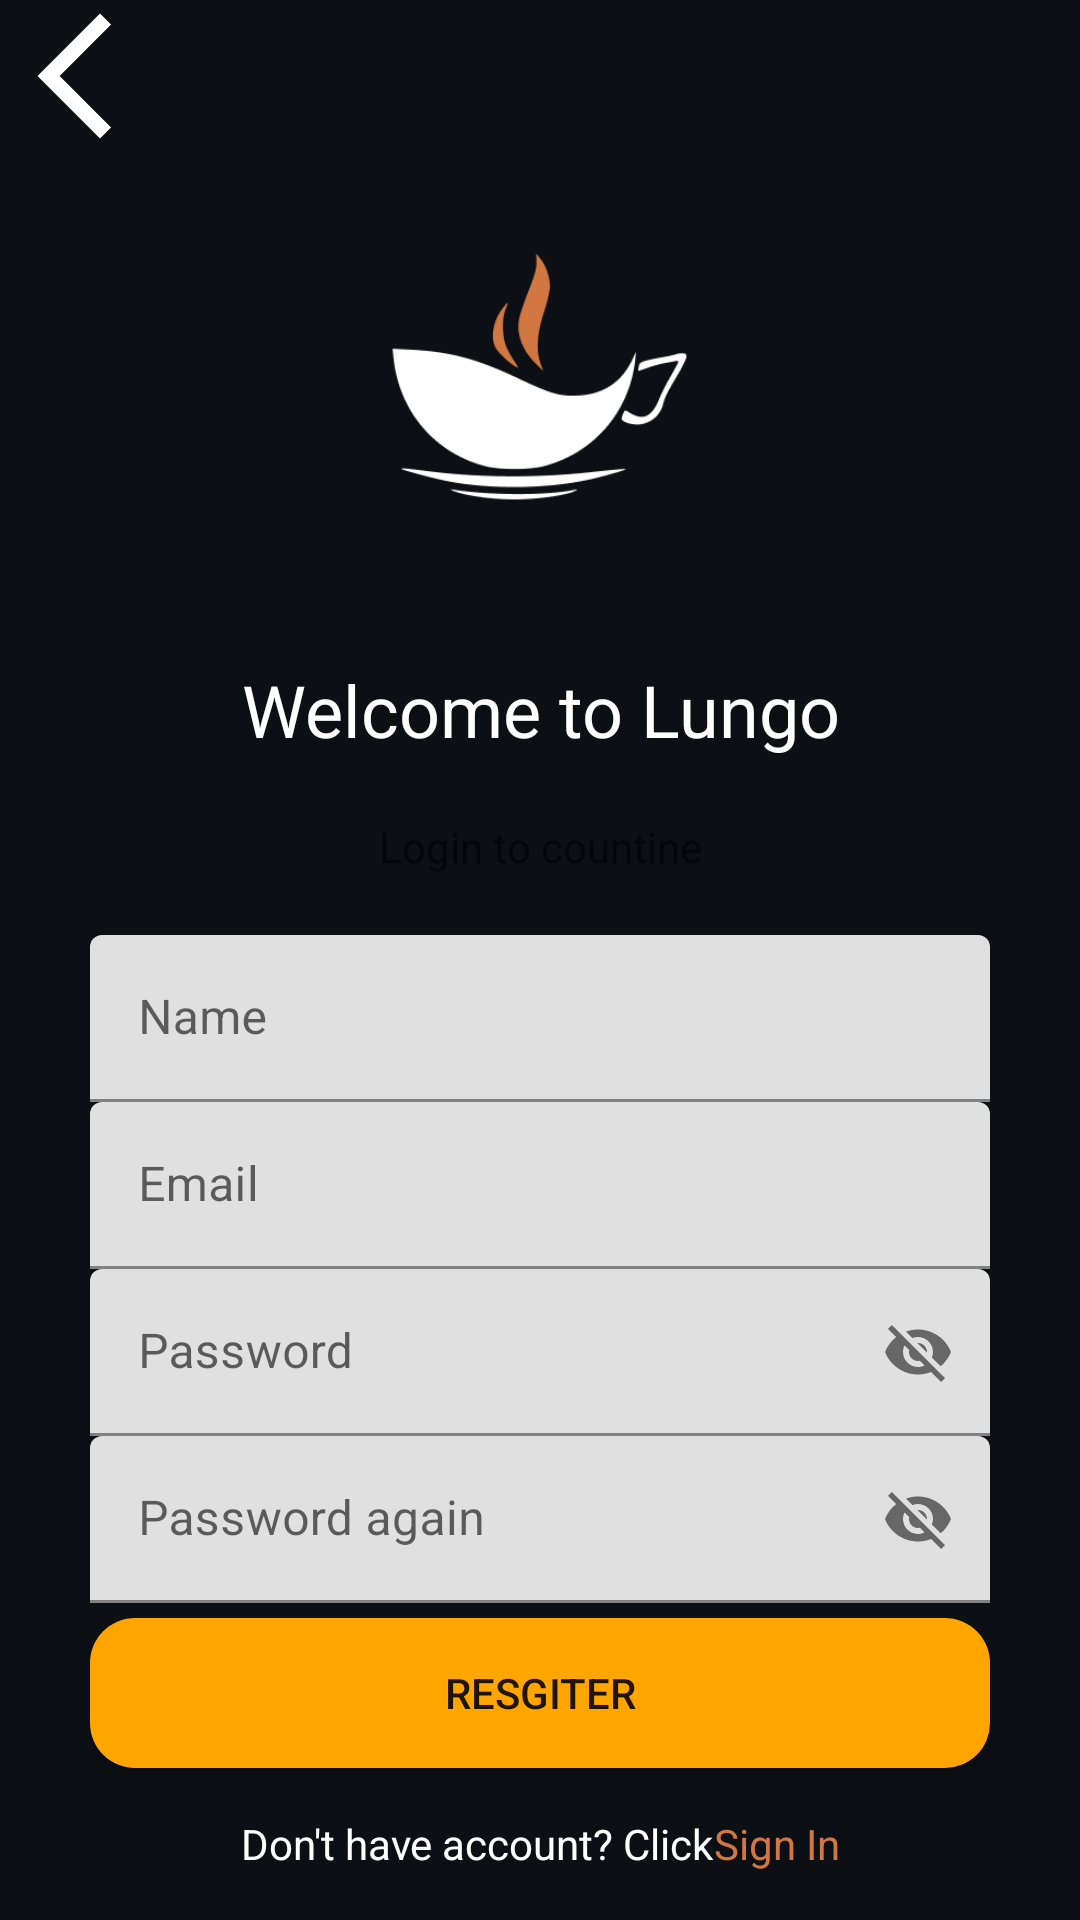

Point at icon controls on the screen. Image size 1080x1920, points as point (x, y).
arrow back: point (74, 76)
